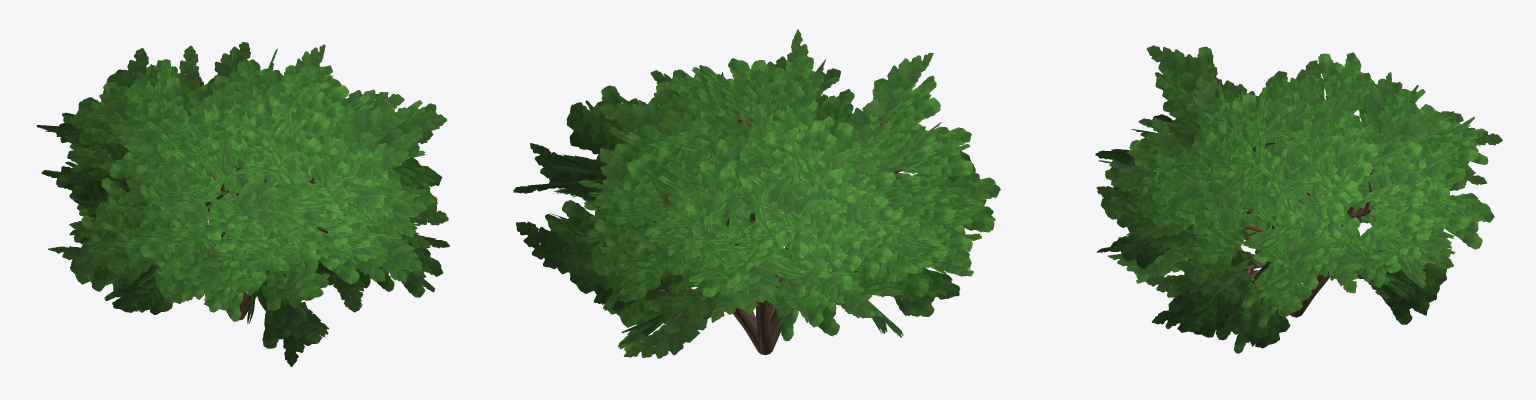
Rendered from SM_Bush.obj.
The picture shows the model from 3 angles, left to right: view 1: azimuth 30°, elevation 25°; view 2: azimuth 150°, elevation 25°; view 3: azimuth 270°, elevation 25°; orthographic projection. The views are drawn at different scales.
Parts seen in each view (by area): view 1: SM_Bush; view 2: SM_Bush; view 3: SM_Bush.
Boxes of the visible parts, bbox=[...] form: SM_Bush: bbox=[36, 42, 449, 366]; SM_Bush: bbox=[513, 29, 1000, 358]; SM_Bush: bbox=[1095, 45, 1502, 353].
Size of the model in its own units: 2.26 by 1.42 by 2.2.
2 materials, 2 textured.
